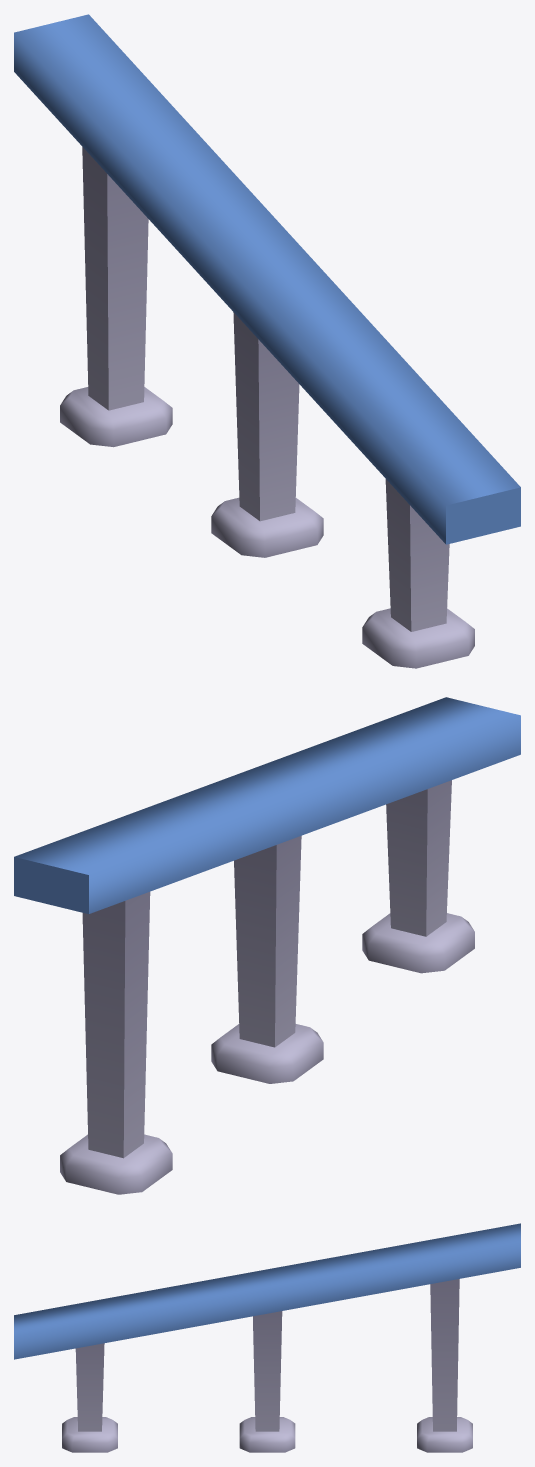
Rendered from rail-slope.glb.
3 views of the same model, one above another, from view 1: azimuth 30°, elevation 25°; view 2: azimuth 150°, elevation 25°; view 3: azimuth 270°, elevation 25° (orthographic). The views are drawn at different scales.
Parts seen in each view (by area): view 1: rail-slope; view 2: rail-slope; view 3: rail-slope.
Part boxes in pixels (bbox=[...]): rail-slope: bbox=[14, 14, 520, 668]; rail-slope: bbox=[14, 697, 520, 1194]; rail-slope: bbox=[14, 1223, 520, 1452].
Size of the model in its own units: 0.11 by 0.45 by 1.
Materials: 1 (1 with a texture image).
